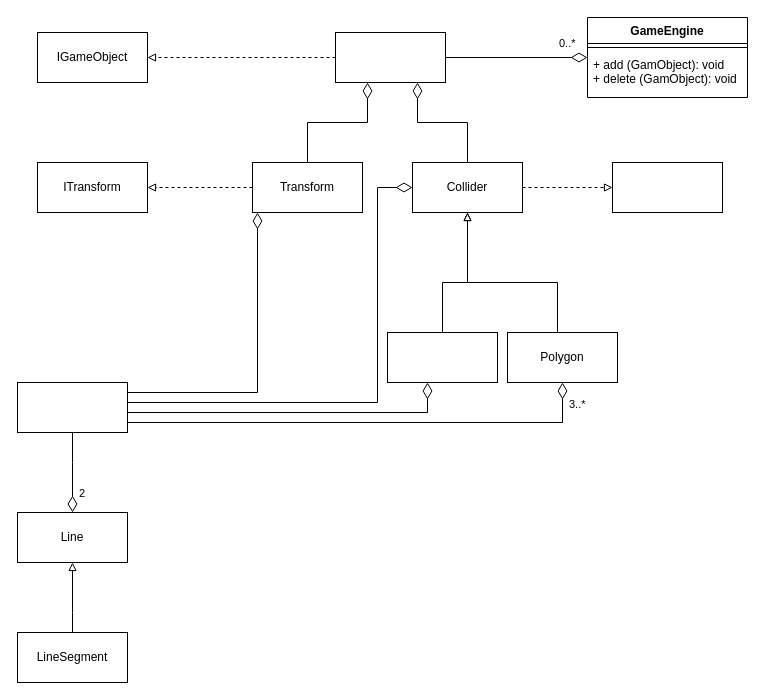
The diagram is 765 pixels wide and 700 high, and some of its shapes have lost their labels. The shapes that lost their labels are listed below. From the top down, each one's centre as x and y in pixels, then its label:
the point at 390,57: GameObject
the point at 667,187: ICollider
the point at 442,357: Circle
the point at 72,407: Point
